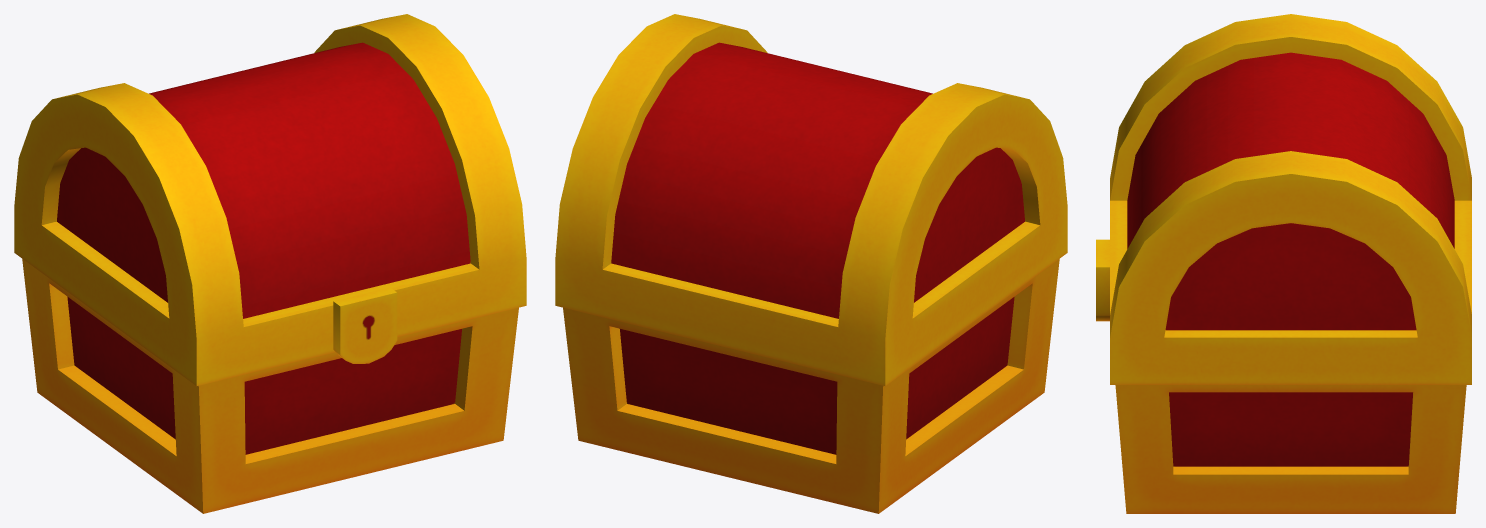
Rendered from TreasureChest.FBX.
3 renders of one model, left to right at view 1: azimuth 30°, elevation 25°; view 2: azimuth 150°, elevation 25°; view 3: azimuth 270°, elevation 25°, orthographic.
Visible parts, largest first — view 1: TreasureChest; view 2: TreasureChest; view 3: TreasureChest.
Boxes of the visible parts, x1=… form: TreasureChest: x1=14, y1=14, x2=526, y2=513; TreasureChest: x1=555, y1=14, x2=1067, y2=513; TreasureChest: x1=1096, y1=14, x2=1471, y2=513.
Bounding box in the file's own units: 227 × 230 × 226.
